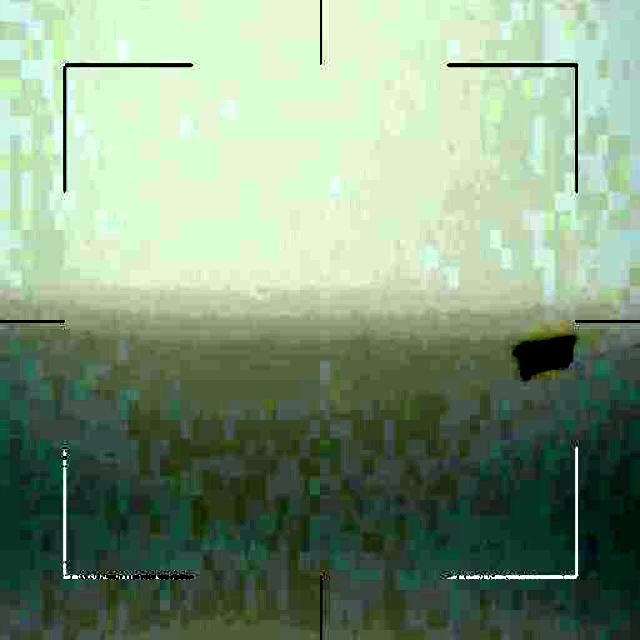bird: (514, 335, 580, 382)
